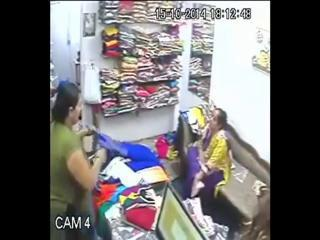Normal: (50, 80, 106, 239)
